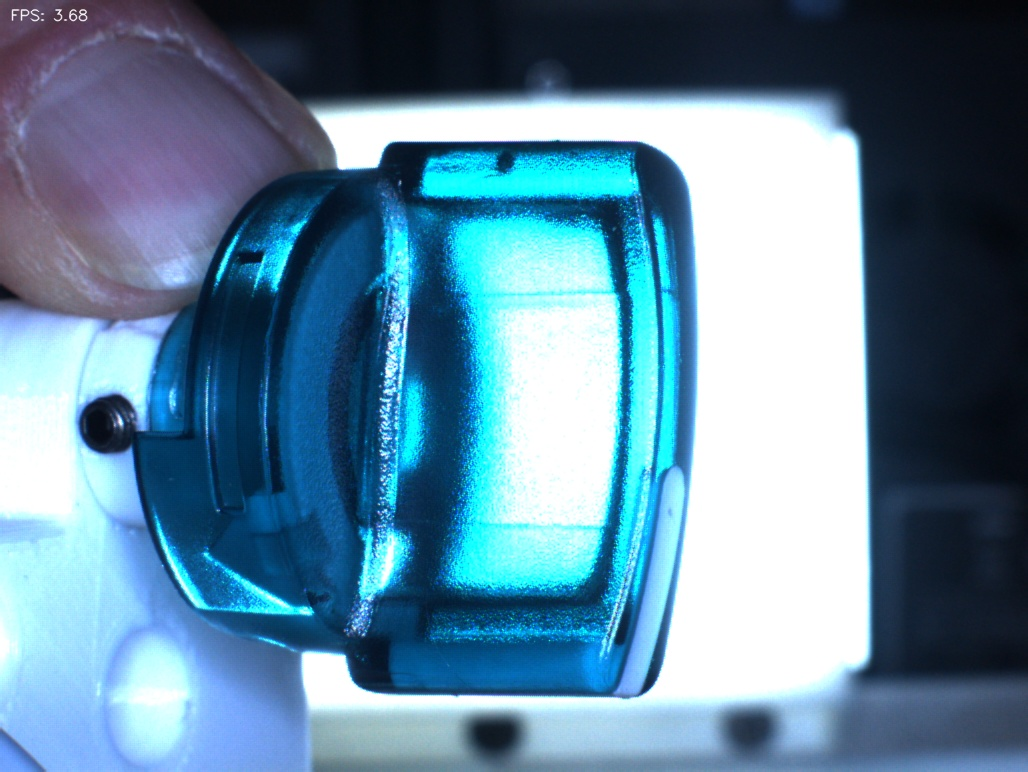Bulle: (461, 124, 548, 212)
